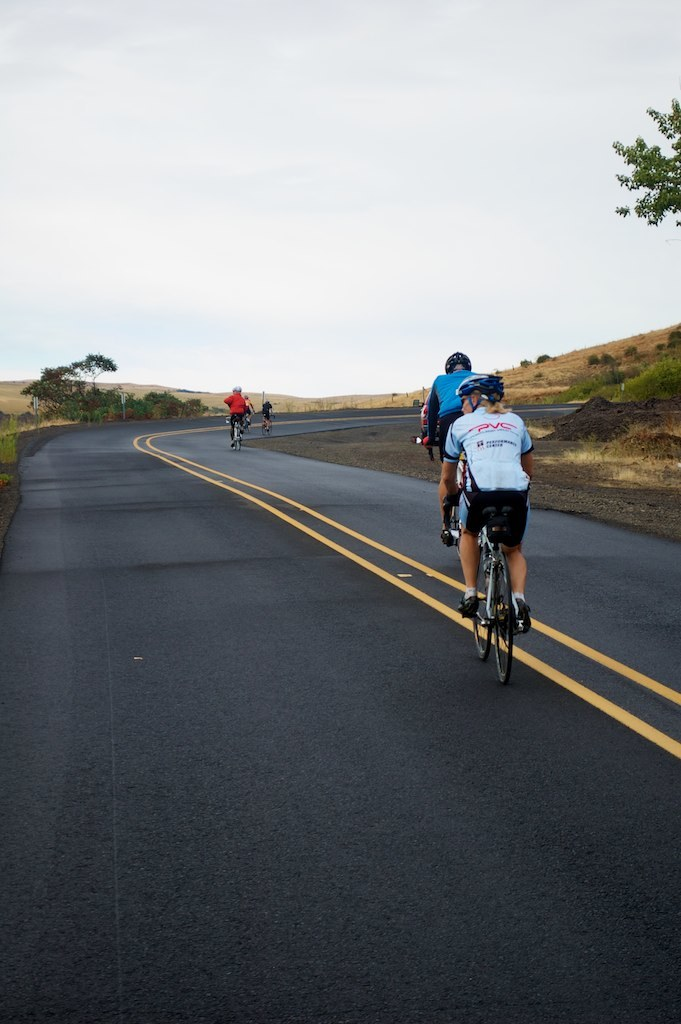Bike: (435, 497, 541, 692)
